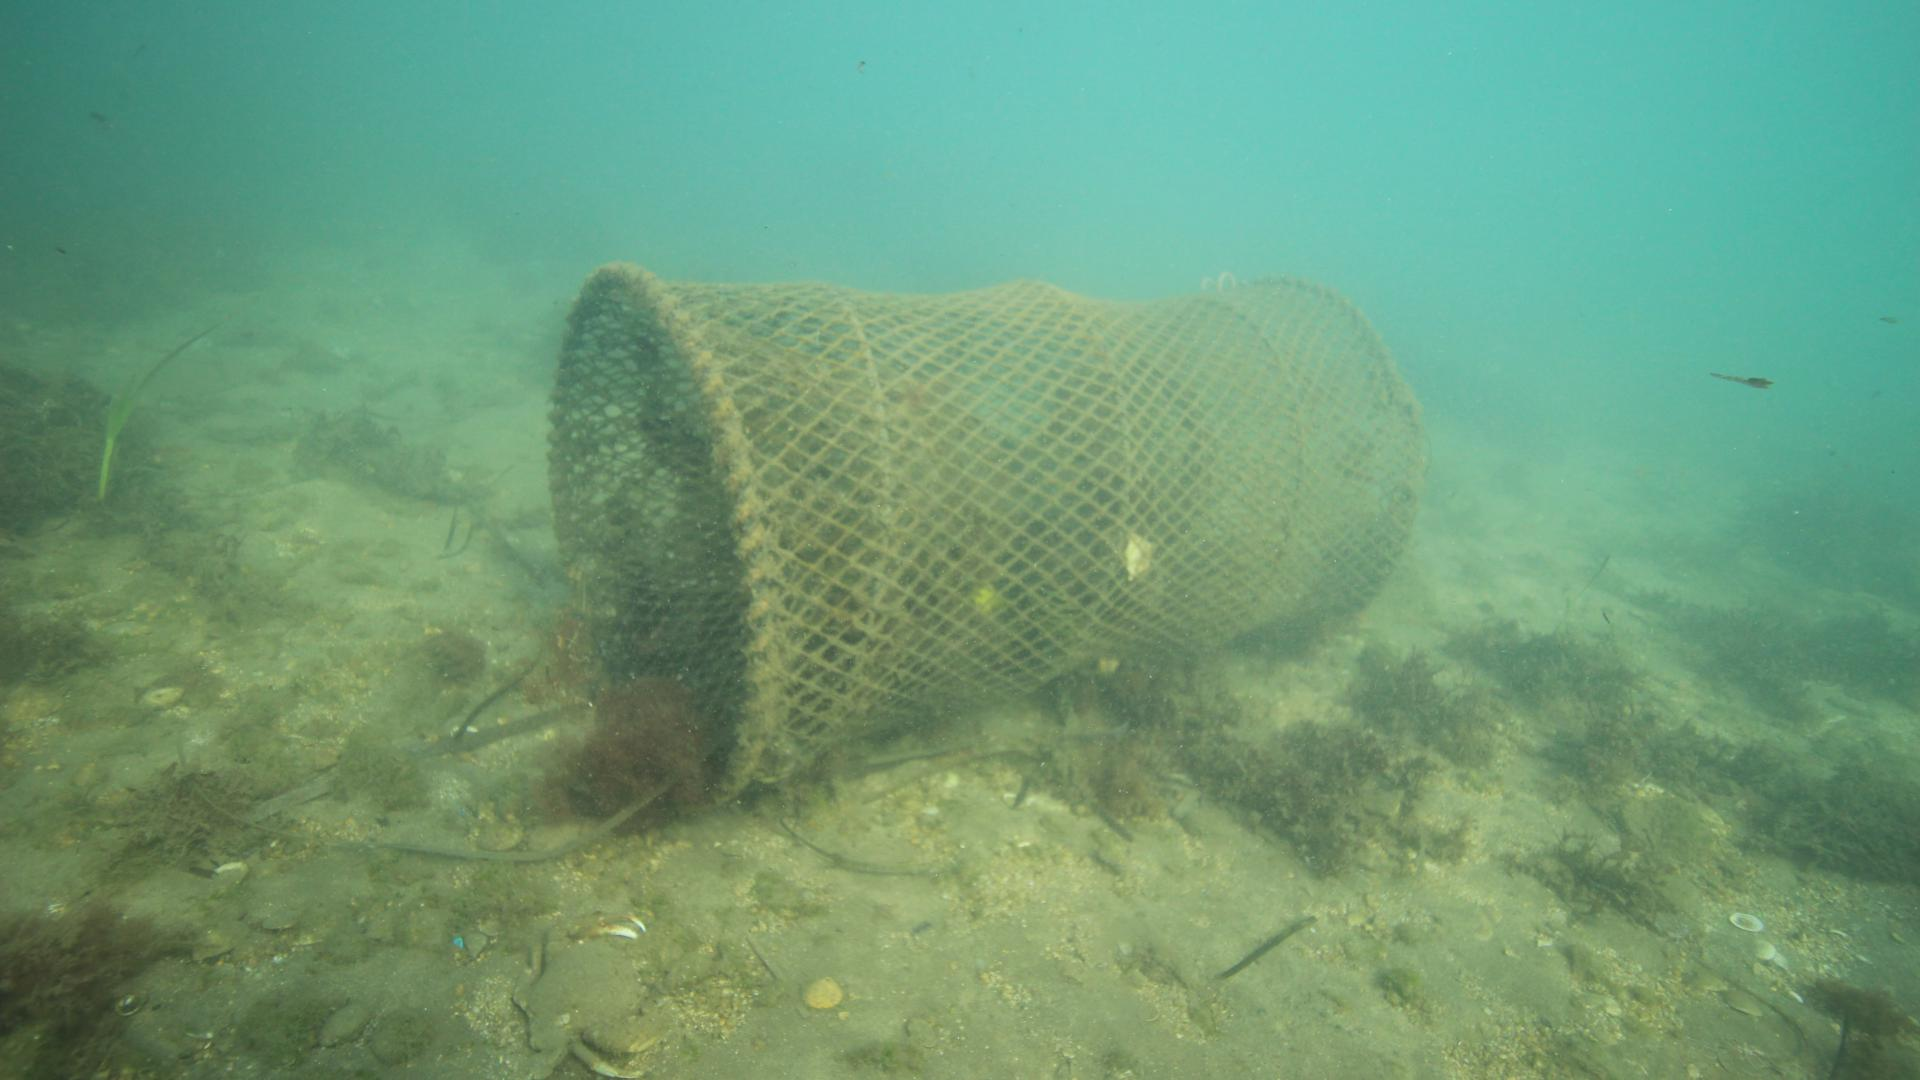spring fish trap: (541, 255, 1422, 818)
